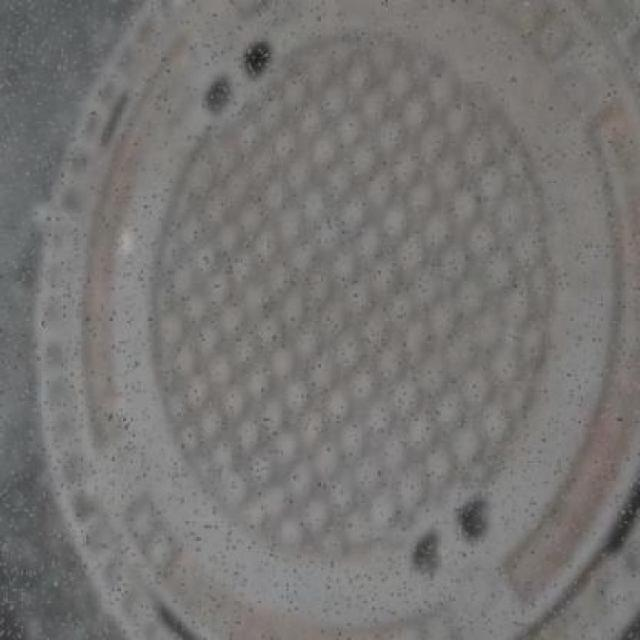Manhole: (39, 19, 638, 638)
